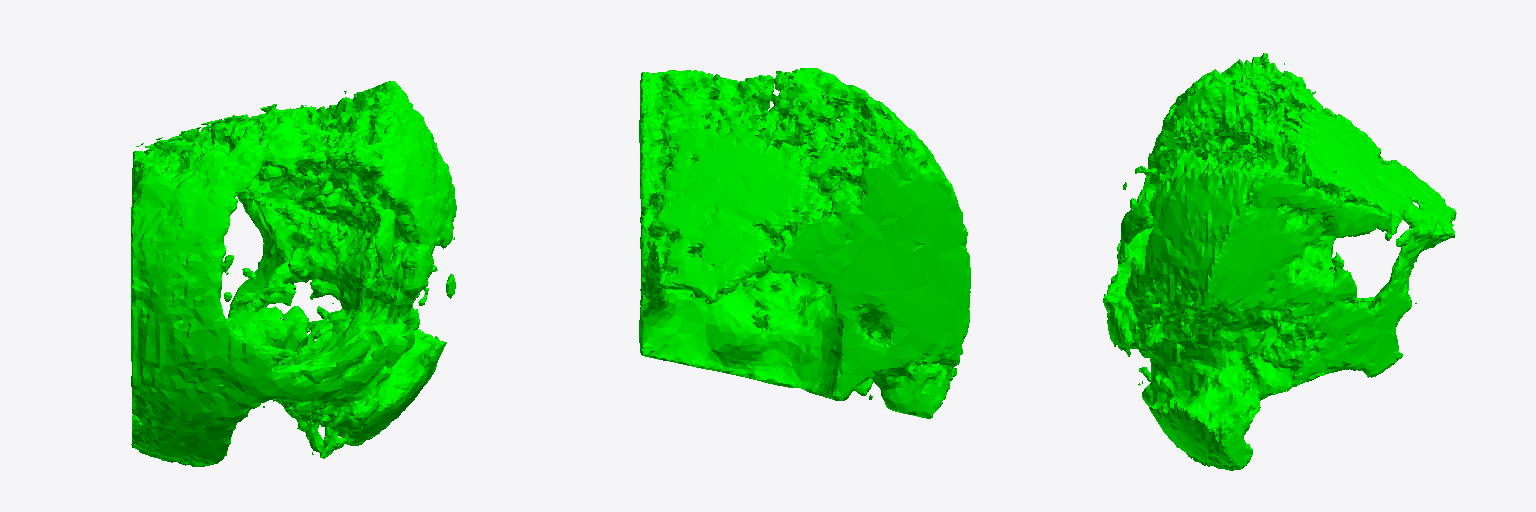
The model's file is B939XXXX-1_base_26.obj.
3 renders of one model, left to right at view 1: azimuth 30°, elevation 25°; view 2: azimuth 150°, elevation 25°; view 3: azimuth 270°, elevation 25°, orthographic.
Parts seen in each view (by area): view 1: 26_base; view 2: 26_base; view 3: 26_base.
Part boxes in pixels (left/top/right/bottom): 26_base: left=131, top=81, right=456, bottom=466; 26_base: left=639, top=68, right=970, bottom=418; 26_base: left=1103, top=53, right=1456, bottom=470.
Bounding box in the file's own units: 218 × 216 × 204.